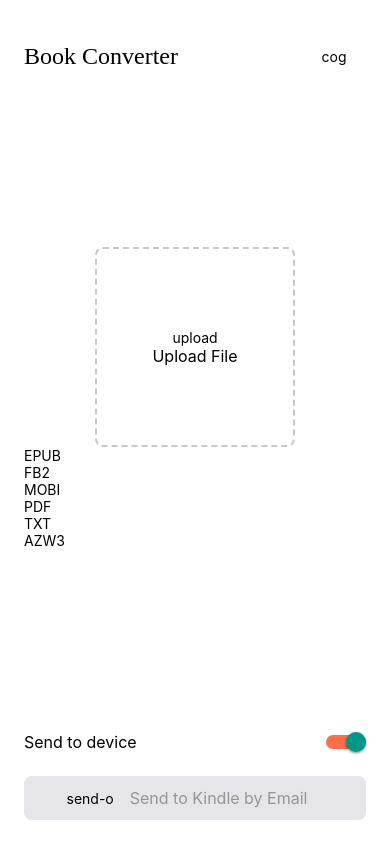
Scenario: settings Cancel discards the draft and keeps stored recipient
Click the text "cog" at (334, 56), box [322, 48, 346, 64]
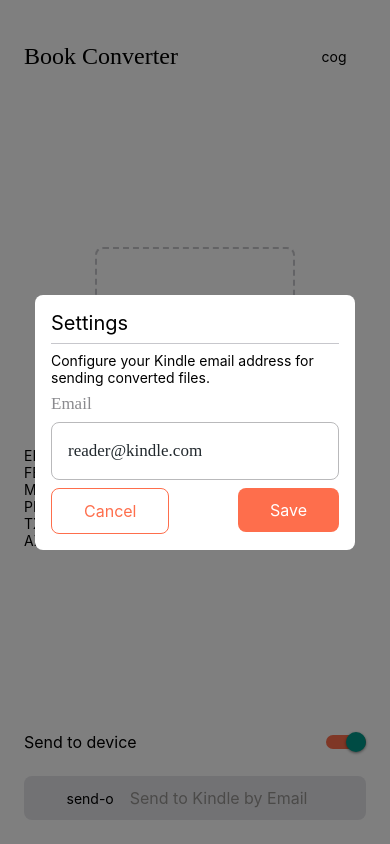
Replace the text in the field showing "reader@kindle.com" with "wrong@kindle.com" at (172, 450), box [68, 422, 277, 478]
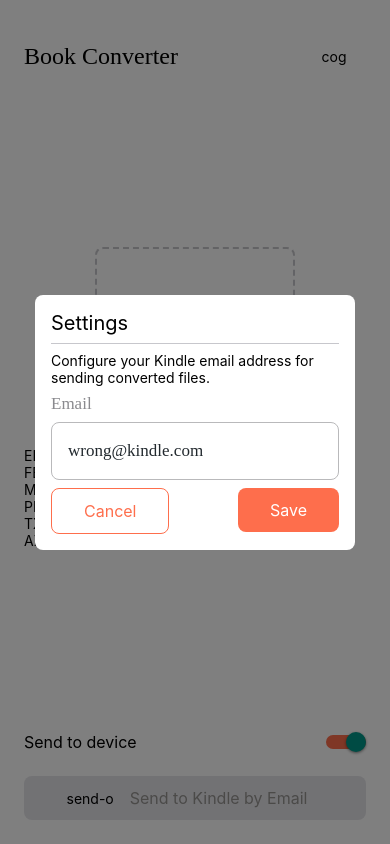
Click the text "Cancel" at (110, 510), box [84, 500, 136, 520]
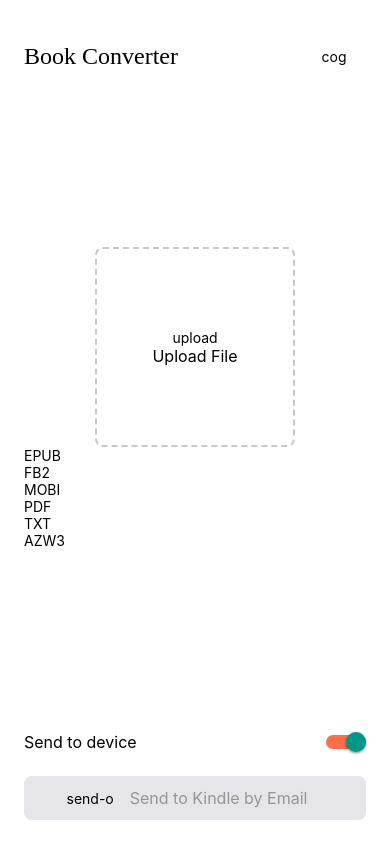
Click the text "cog" at (334, 56), box [322, 48, 346, 64]
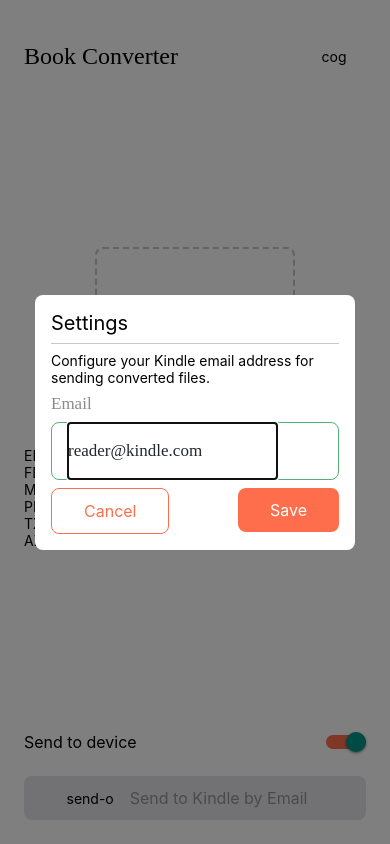
Check: the field showing "reader@kindle.com" is shown, box [68, 422, 277, 478]
